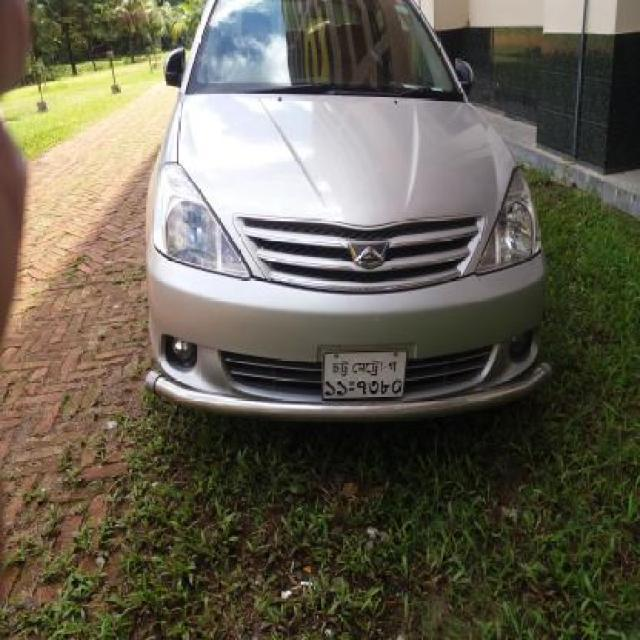numberplate: (319, 348, 406, 401)
